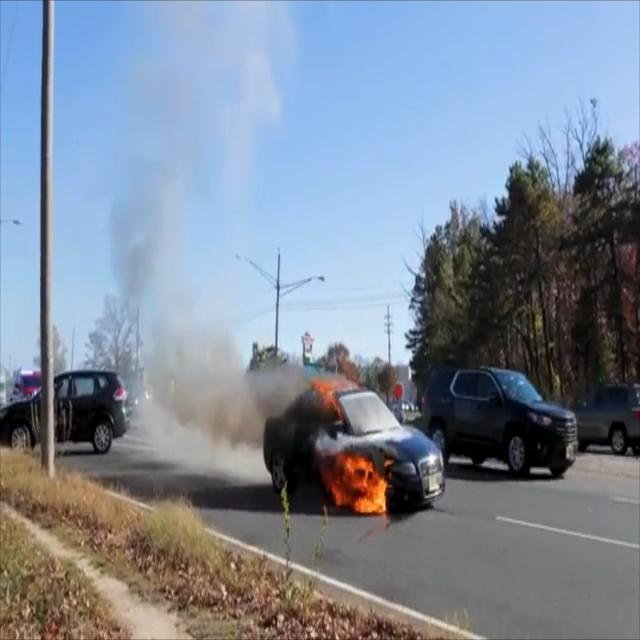fire: (308, 380, 389, 516)
